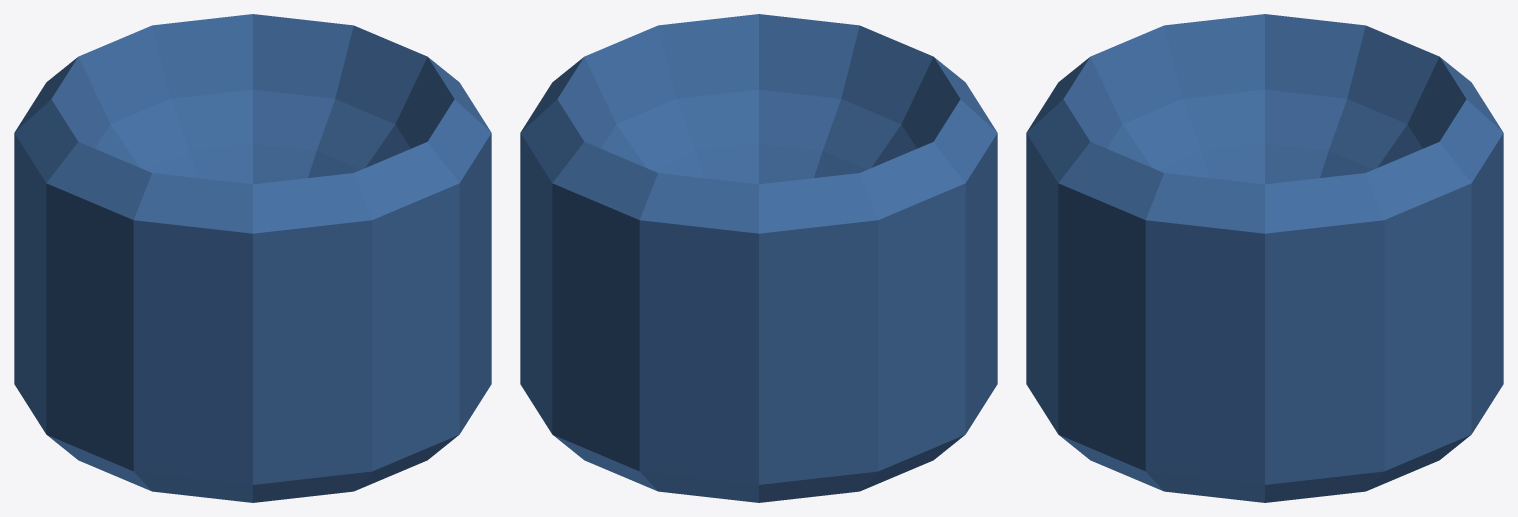
The model's file is Wheel1.OBJ.
The picture shows the model from 3 angles, left to right: view 1: azimuth 30°, elevation 25°; view 2: azimuth 150°, elevation 25°; view 3: azimuth 270°, elevation 25°; orthographic projection.
Visible parts, largest first — view 1: Wheel1; view 2: Wheel1; view 3: Wheel1.
Boxes of the visible parts, bbox=[...] form: Wheel1: bbox=[14, 14, 491, 502]; Wheel1: bbox=[520, 14, 997, 502]; Wheel1: bbox=[1026, 14, 1503, 502].
Size of the model in its own units: 0.5092 by 0.375 by 0.5092.
